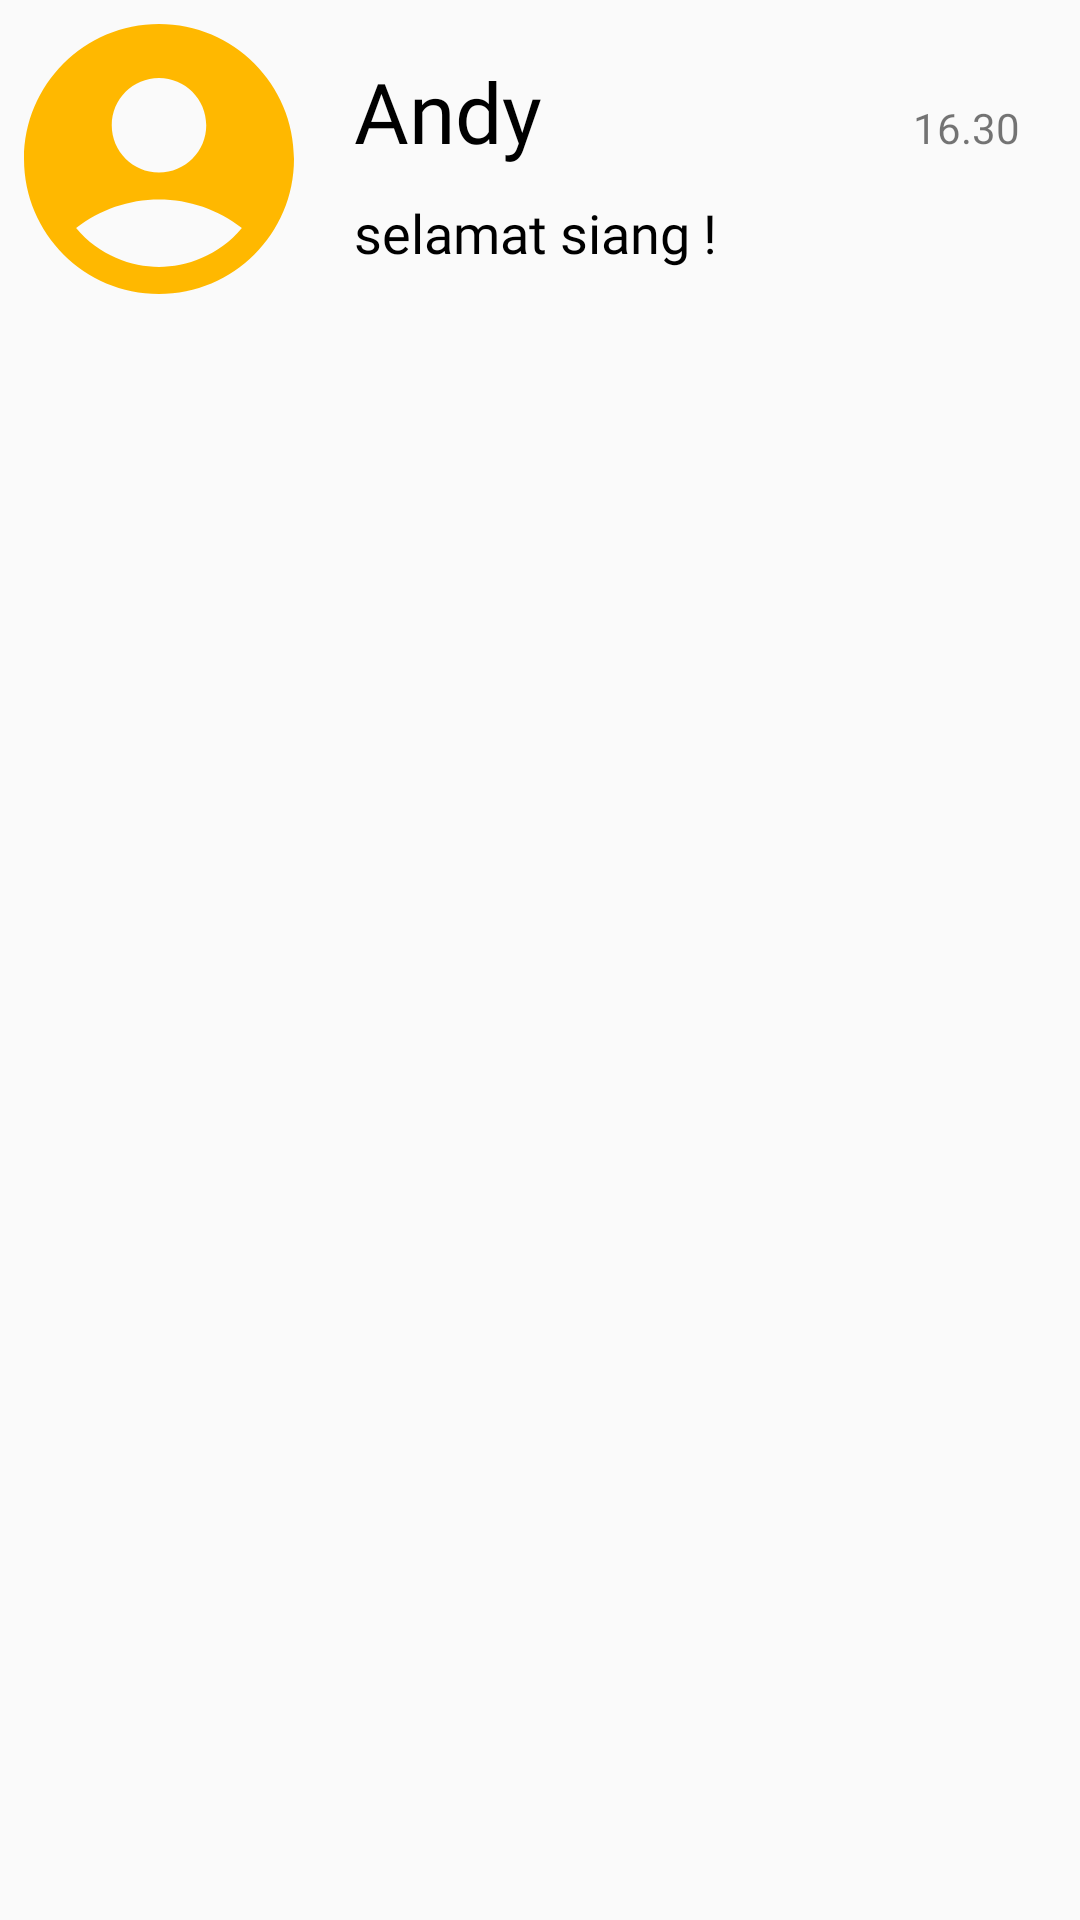

Screen size 1080*1920. Icon name, then its box in pixels as (x1, y1, x2, y2):
profile: (24, 24, 294, 294)
